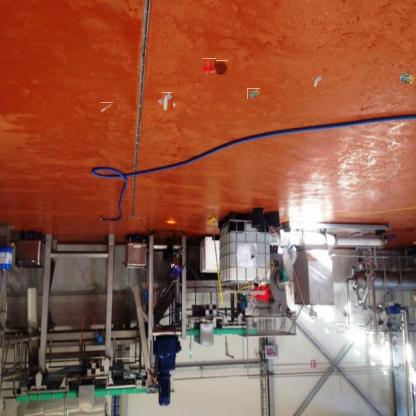dirty: (397, 70, 415, 84), (160, 94, 175, 110), (247, 88, 260, 100), (312, 75, 324, 87), (101, 102, 113, 113)
liquid: (202, 58, 216, 75), (213, 60, 228, 75)
